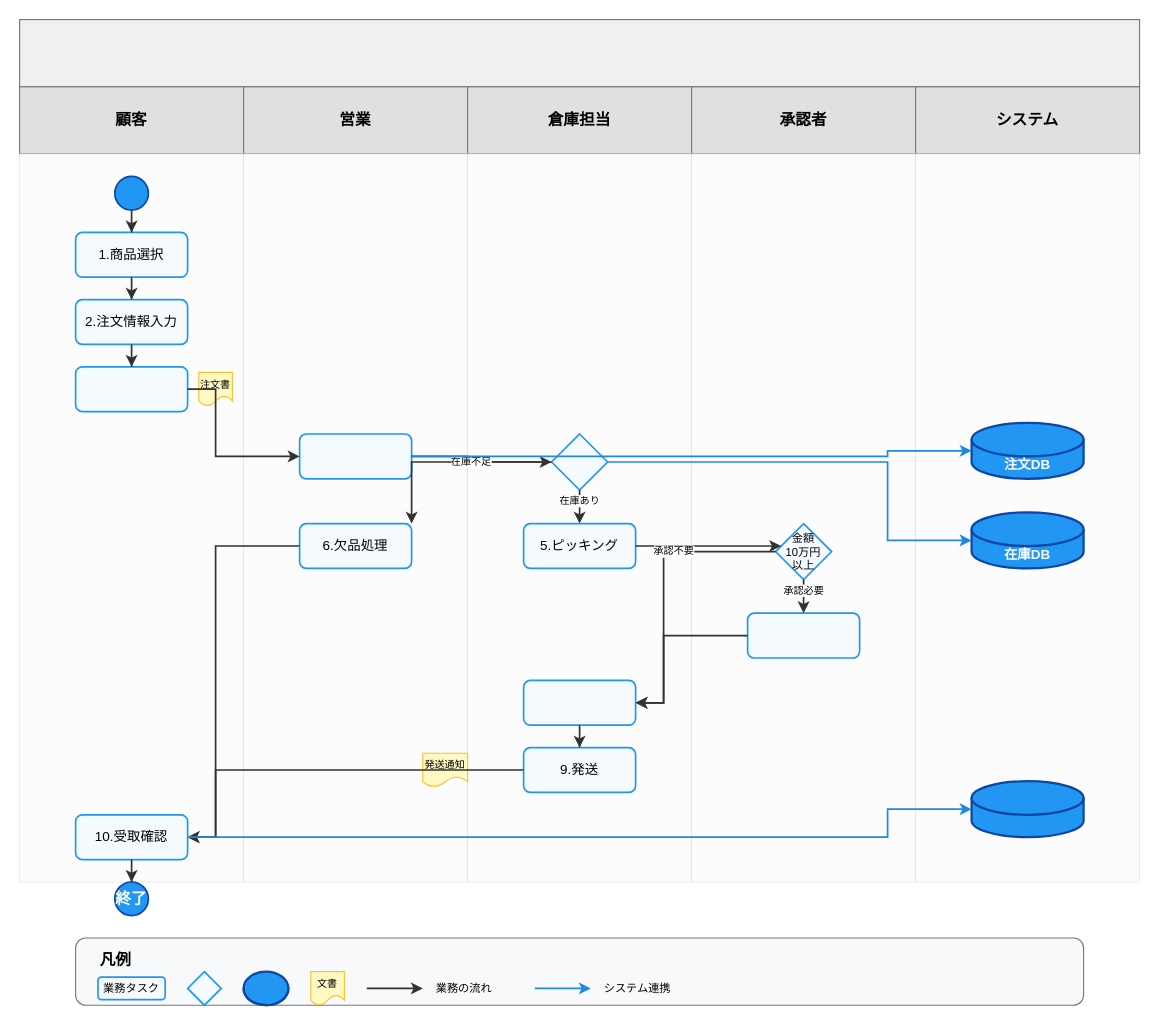
Image size: 1159x1028. Some labels were removed from this diagram. The shapes that lost their labels are listed below. From the top down, each one's box as (x1, y1, x2, y2) in pixels, then its label:
(18, 18, 1140, 87): ECサイト注文処理業務フロー 作成日: 2025-01-24
(113, 175, 149, 210): 開始
(74, 365, 188, 412): 3.注文確定
(298, 433, 412, 479): 4.注文受付
(550, 433, 608, 490): 在庫 確認
(746, 612, 860, 658): 7.承認処理
(522, 679, 636, 726): 8.梱包
(970, 780, 1084, 838): 売上DB
(186, 970, 222, 1006): 判断
(242, 970, 289, 1006): DB
